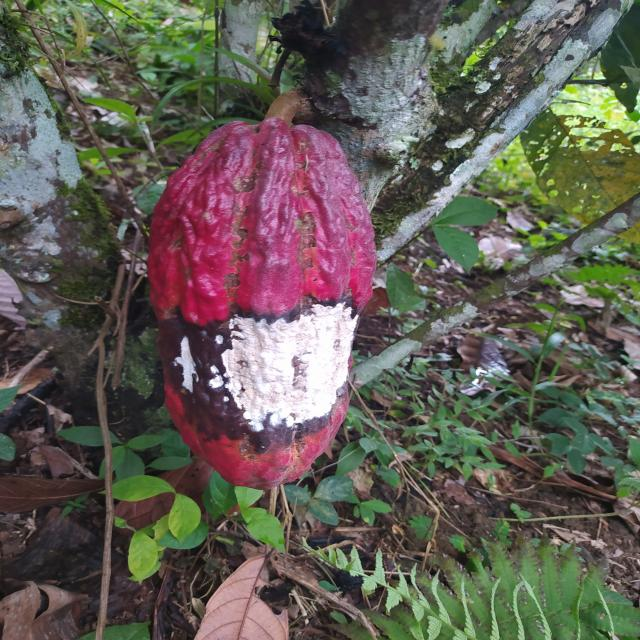Monilia: (148, 118, 373, 492)
